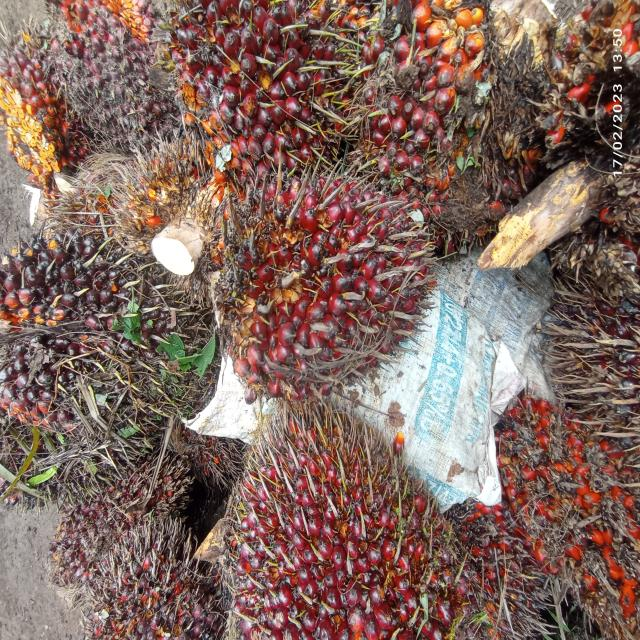fraksi 00: (0, 222, 196, 486)
fraksi 1: (202, 170, 442, 401), (219, 415, 461, 640), (350, 0, 564, 212), (166, 1, 344, 191), (0, 0, 162, 205), (27, 433, 211, 584), (91, 524, 219, 640)
fraksi 4: (486, 359, 640, 640)
